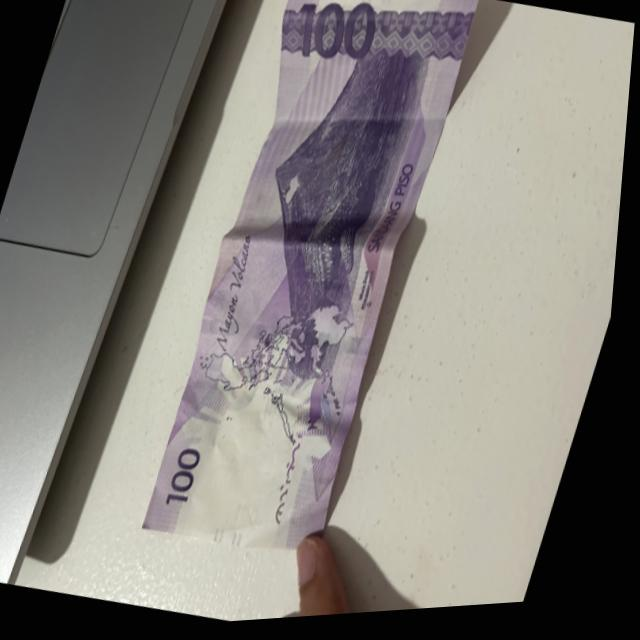100_whale: (299, 160, 392, 315)
100_whale_watermark: (300, 368, 343, 441)
value_watermark: (233, 502, 270, 537)
